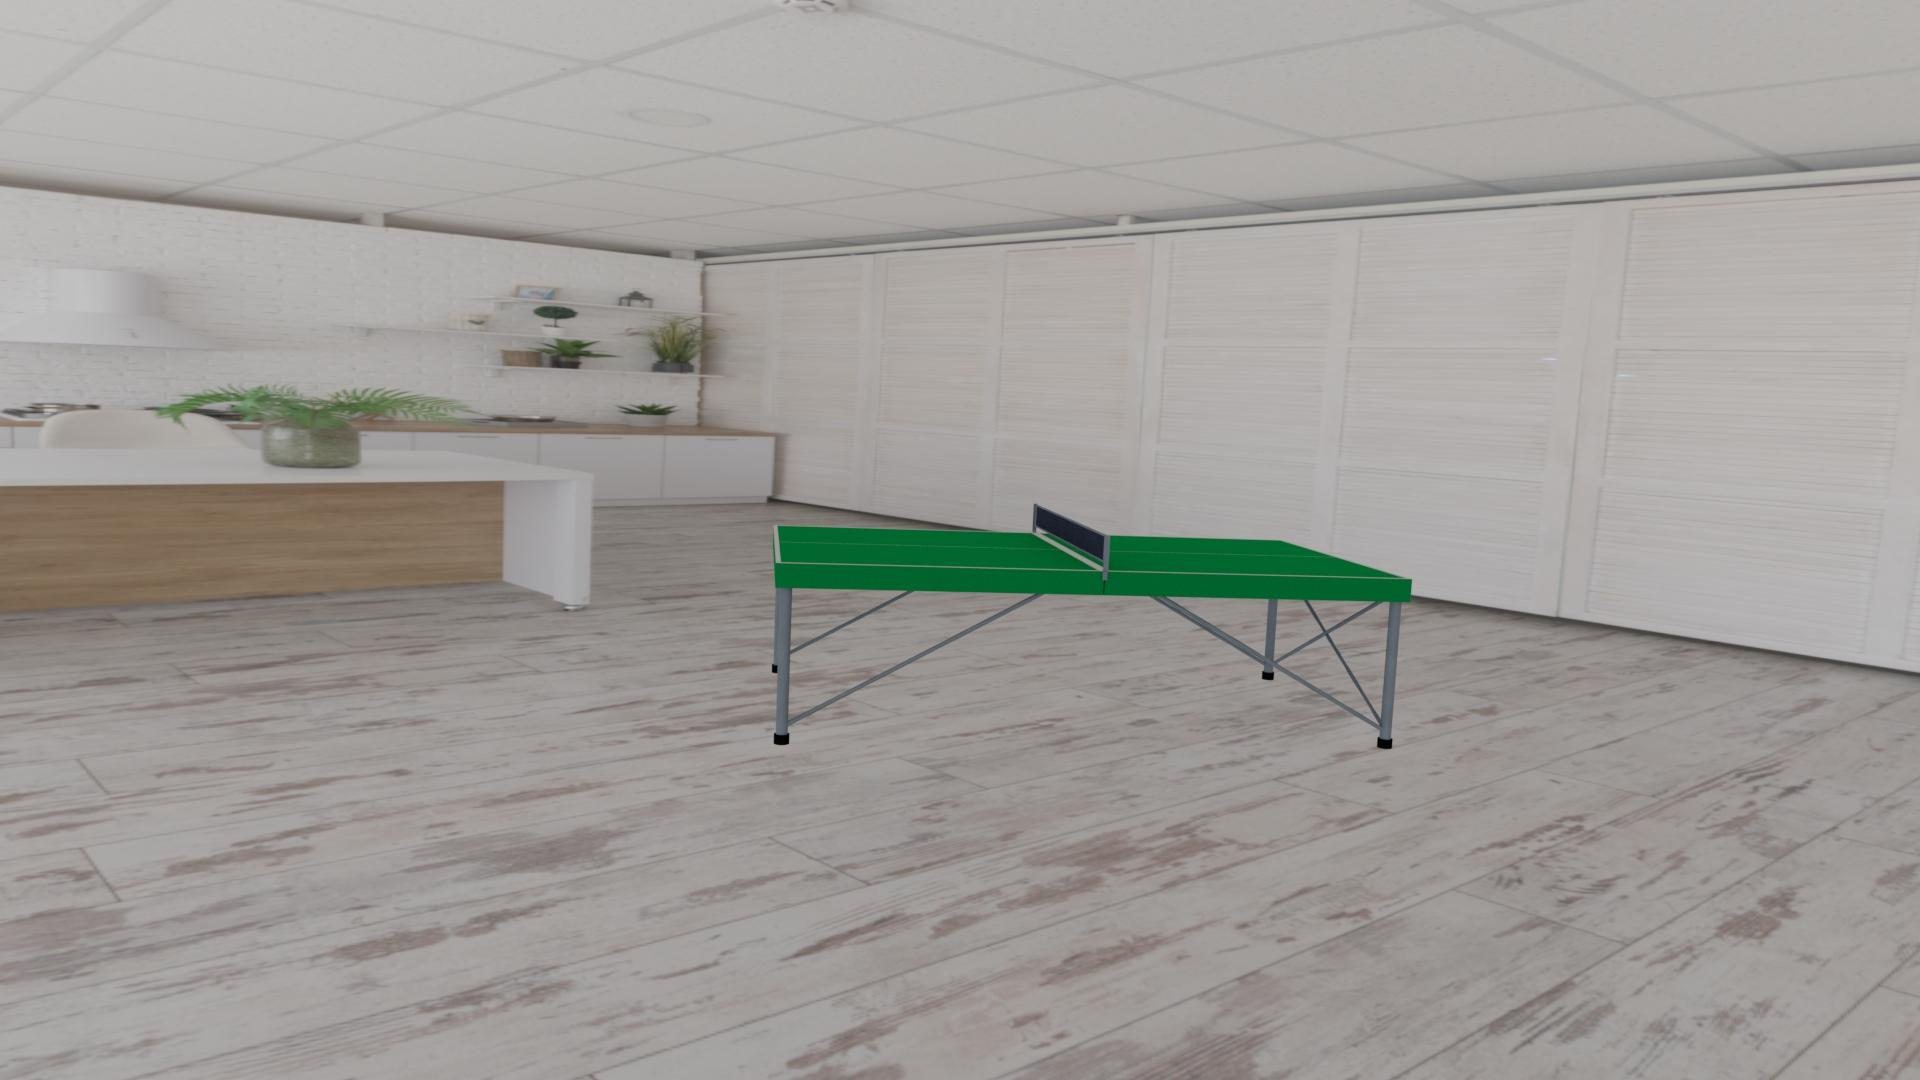table: (778, 526, 1406, 579)
